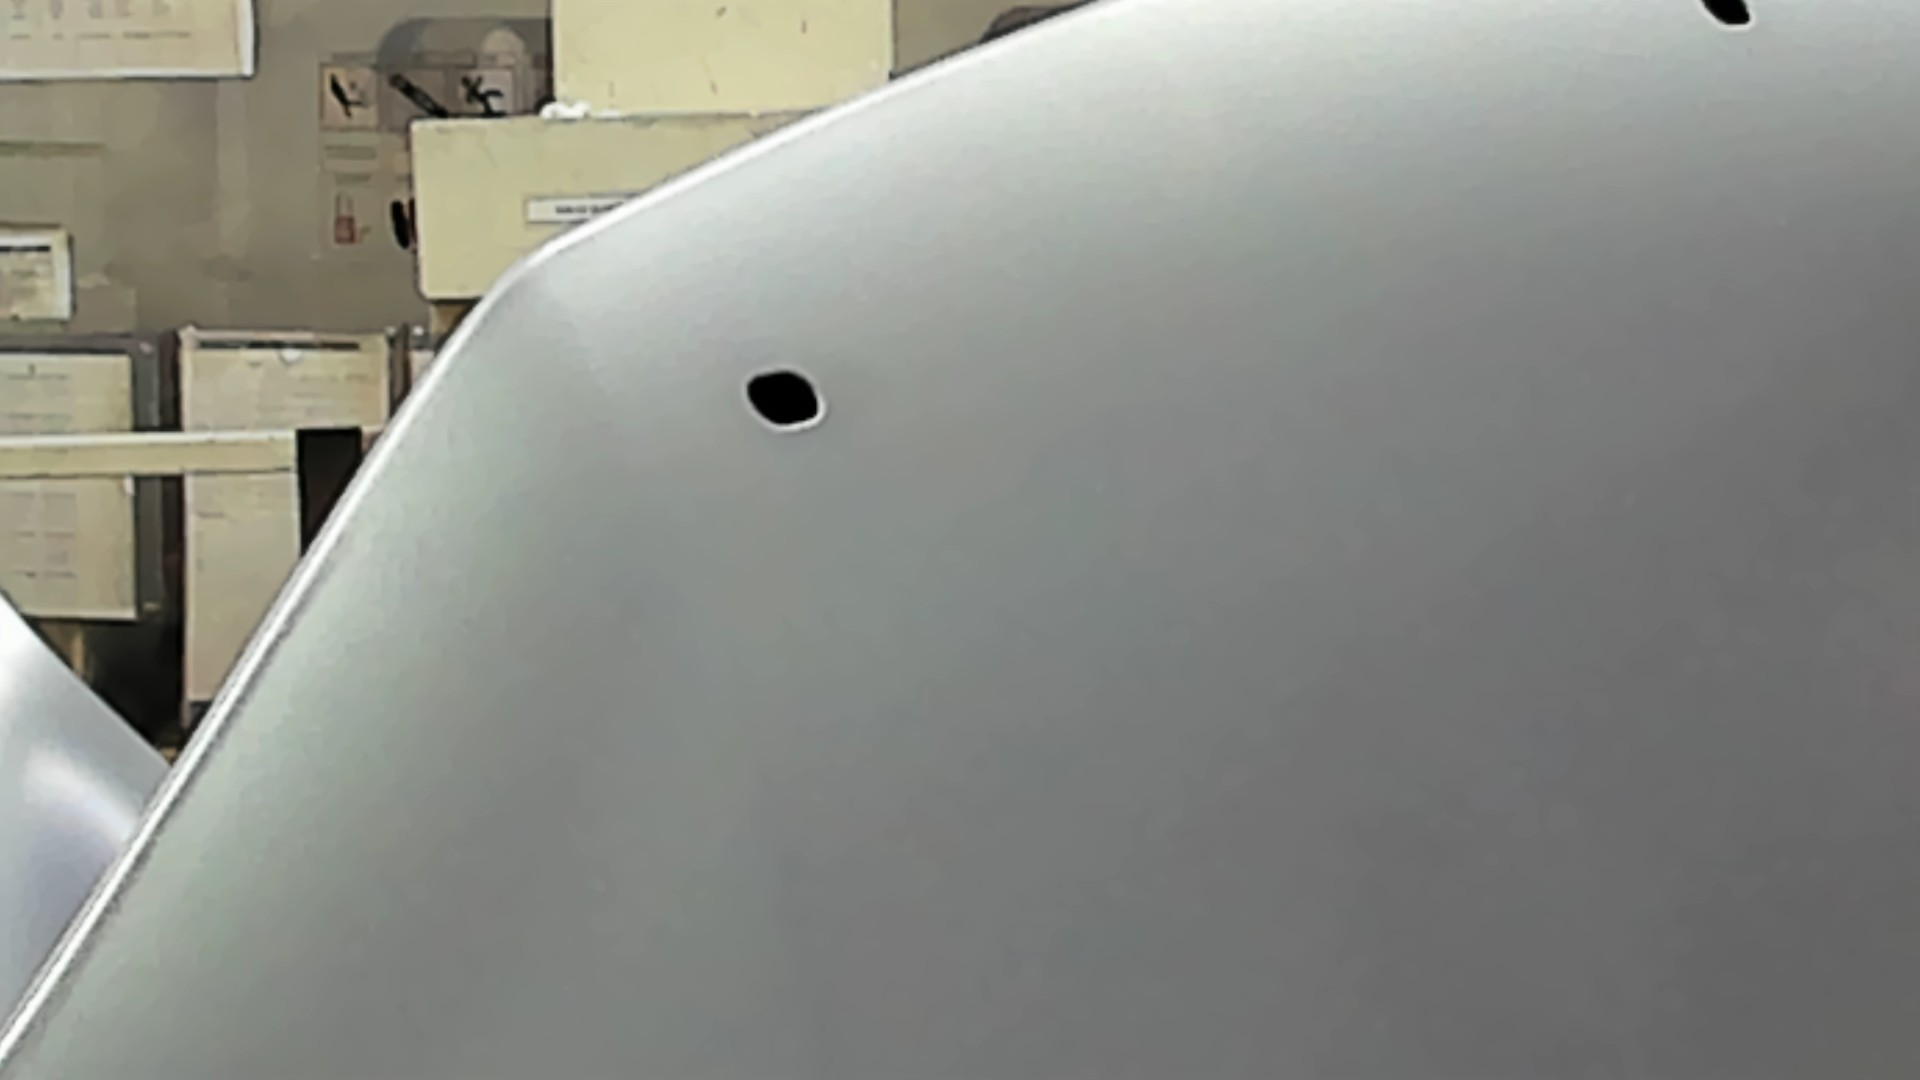amorfo: (738, 359, 832, 436), (1700, 1, 1763, 37)
